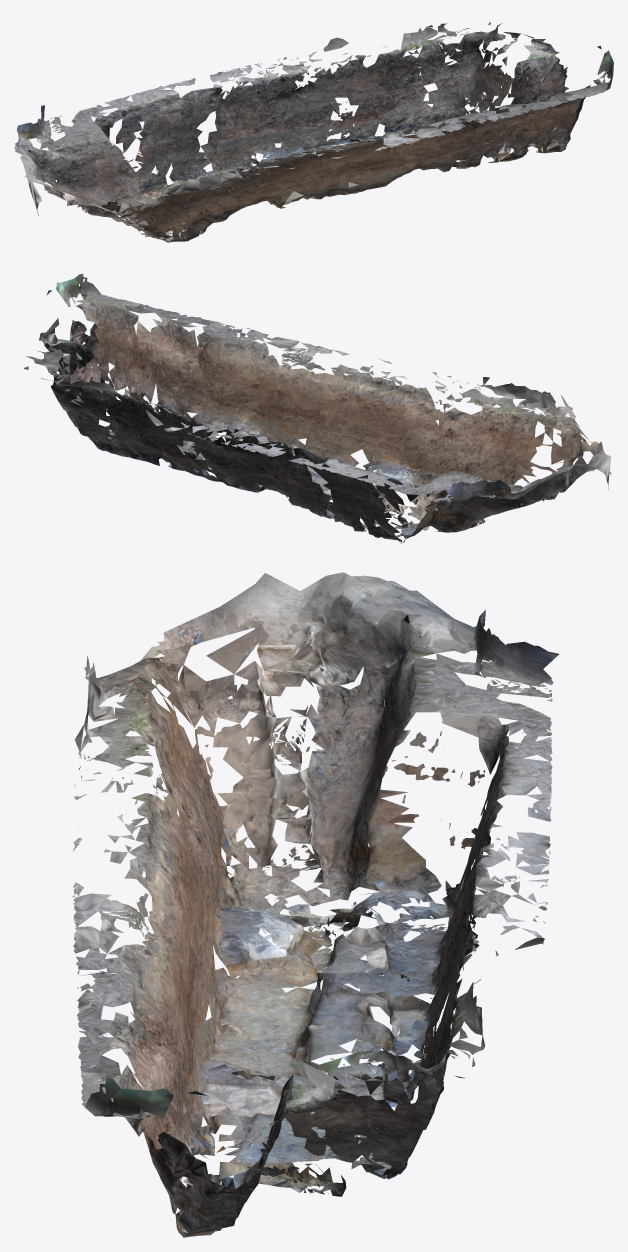
Rendered from Iseki2.obj.
3 views of the same model, one above another, from view 1: azimuth 30°, elevation 25°; view 2: azimuth 150°, elevation 25°; view 3: azimuth 270°, elevation 25° (orthographic). The views are drawn at different scales.
Visible parts, largest first — view 1: obj1.002_obj1.003; view 2: obj1.002_obj1.003; view 3: obj1.002_obj1.003.
Part boxes in pixels (x1,y1,x2,y2): obj1.002_obj1.003: (14, 22, 613, 242); obj1.002_obj1.003: (23, 273, 611, 543); obj1.002_obj1.003: (72, 572, 558, 1237).
Bounding box in the file's own units: 2.05 × 0.3946 × 0.7898.
Materials: 4 (4 with a texture image).
